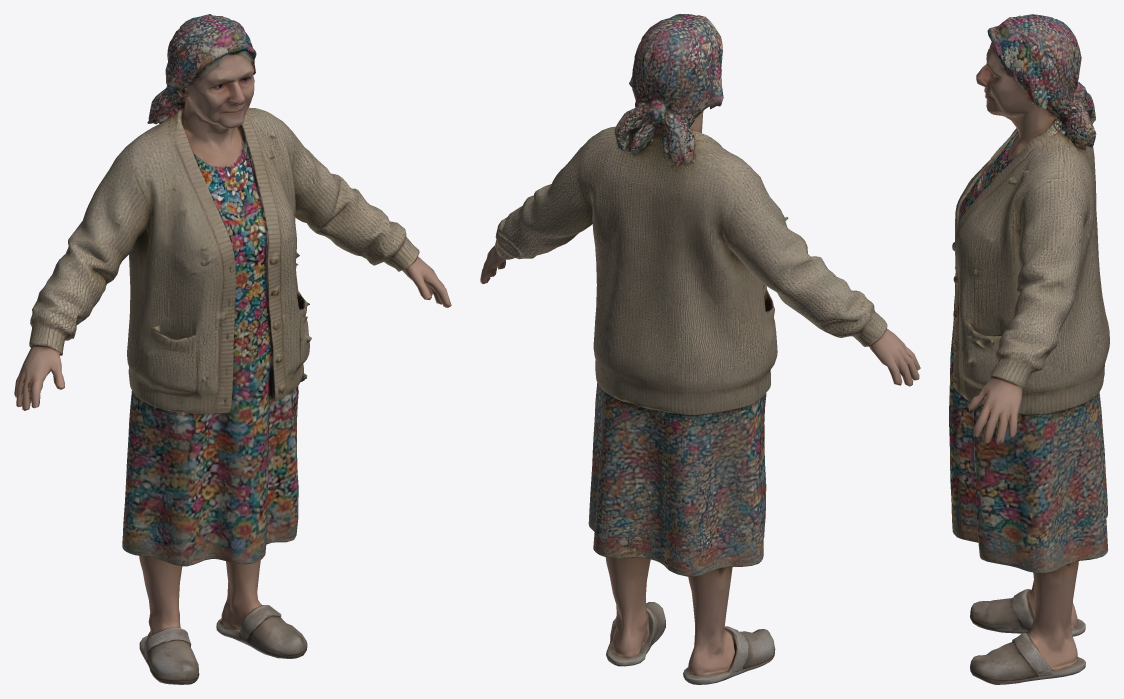
Rendered from savta_z.glb.
The picture shows the model from 3 angles, left to right: view 1: azimuth 30°, elevation 25°; view 2: azimuth 150°, elevation 25°; view 3: azimuth 270°, elevation 25°; orthographic projection.
Parts seen in each view (by area): view 1: tripo_node_8fabf522-ee7d-4a3c-af33-b03216822480; view 2: tripo_node_8fabf522-ee7d-4a3c-af33-b03216822480; view 3: tripo_node_8fabf522-ee7d-4a3c-af33-b03216822480.
Boxes of the visible parts, left/top/right/bottom form: tripo_node_8fabf522-ee7d-4a3c-af33-b03216822480: left=14, top=14, right=451, bottom=684; tripo_node_8fabf522-ee7d-4a3c-af33-b03216822480: left=480, top=14, right=920, bottom=684; tripo_node_8fabf522-ee7d-4a3c-af33-b03216822480: left=949, top=14, right=1109, bottom=684.
Size of the model in its own units: 0.7078 by 1 by 0.231.
Materials: 1 (1 with a texture image).
